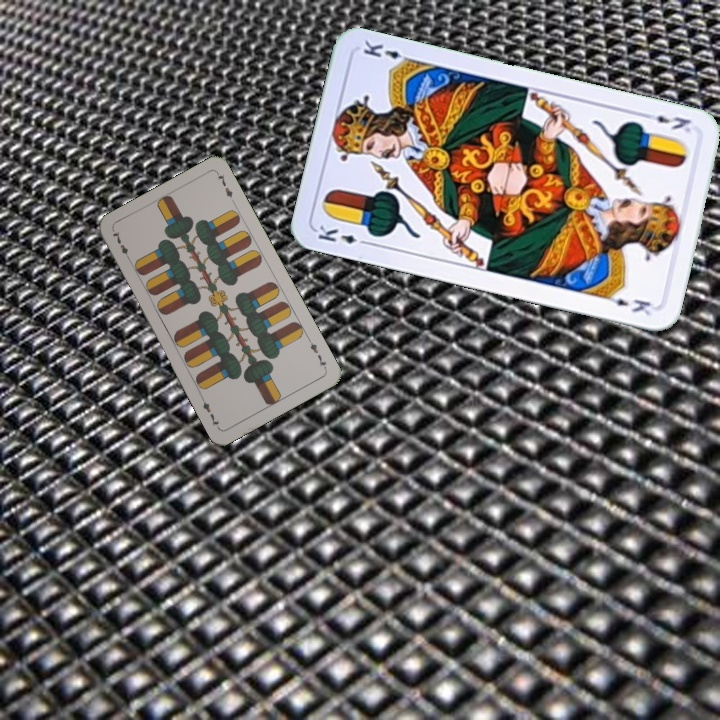E7: (304, 335, 329, 372), (108, 227, 133, 264)
EK: (314, 221, 372, 250), (640, 109, 694, 135)
